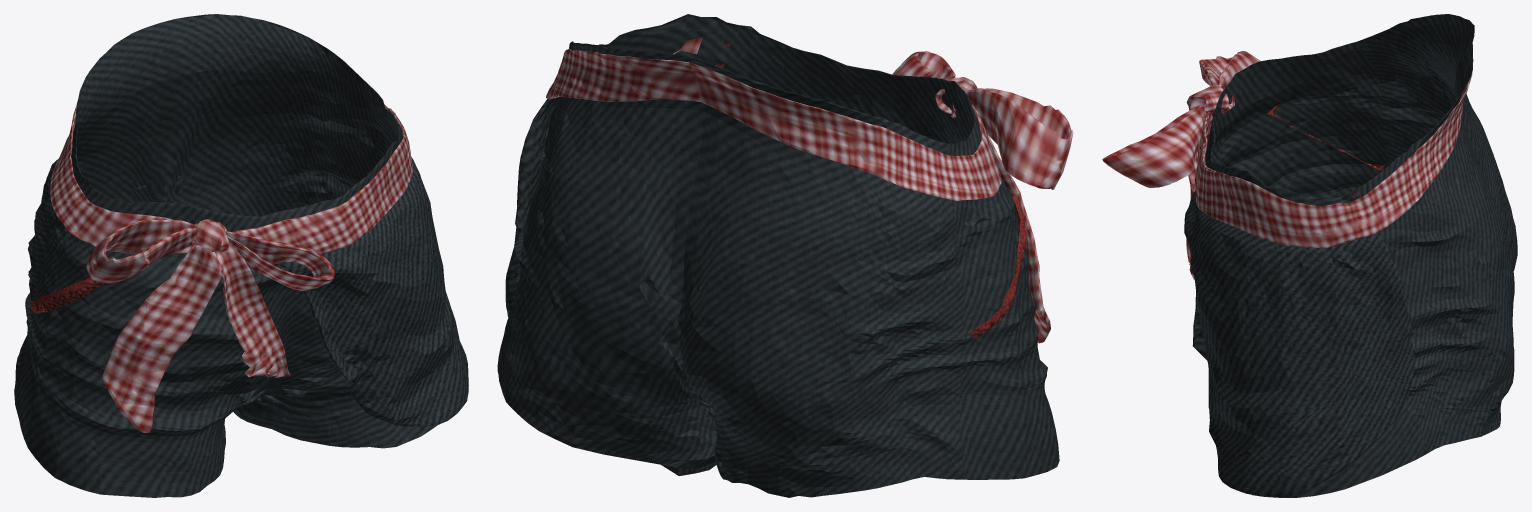
The model's file is mhw_elvs_retro_girly_shorts1.glb.
3 renders of one model, left to right at view 1: azimuth 30°, elevation 25°; view 2: azimuth 150°, elevation 25°; view 3: azimuth 270°, elevation 25°, orthographic. The views are drawn at different scales.
Parts seen in each view (by area): view 1: mhw_elvs_retro_girly_shorts1; view 2: mhw_elvs_retro_girly_shorts1; view 3: mhw_elvs_retro_girly_shorts1.
Part boxes in pixels (box(x1,y1,x2,y2)): mhw_elvs_retro_girly_shorts1: box(14, 14, 468, 497); mhw_elvs_retro_girly_shorts1: box(497, 14, 1073, 497); mhw_elvs_retro_girly_shorts1: box(1102, 14, 1517, 497).
Size of the model in its own units: 0.4091 by 0.3463 by 0.3427.
Materials: 1 (1 with a texture image).
